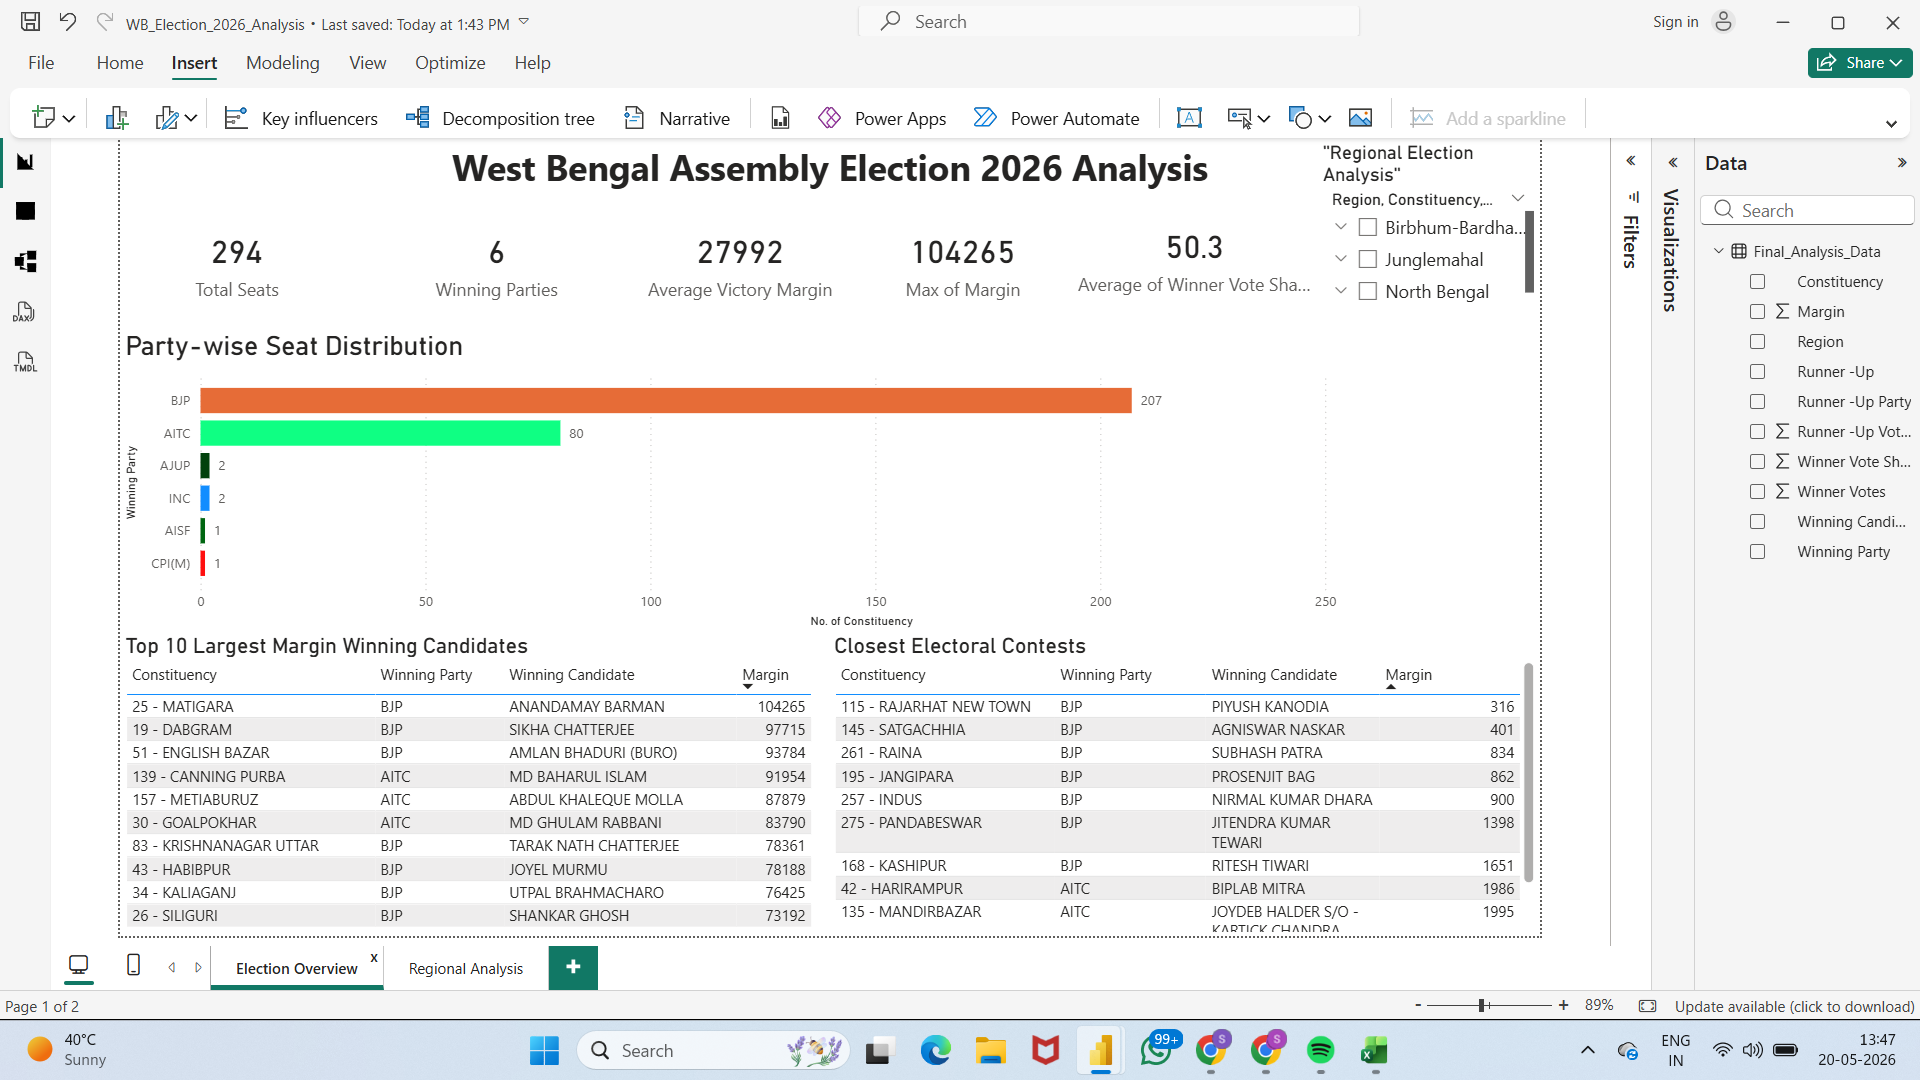

The dashboard page shown, as its layout file describes it:
{"tool":"powerbi","page":{"name":"Election Overview","canvas":[1280,720],"ordinal":0},"visuals":[{"type":"card","fields":{"Values":["Count(Final_Analysis_Data.Constituency)"]},"box":[0,54.9,211.3,112.5],"z":1},{"type":"card","fields":{"Values":["Count(Final_Analysis_Data.Winning Party)"]},"box":[211.3,54.9,258,112.5],"z":2},{"type":"card","fields":{"Values":["Avg(Final_Analysis_Data.Margin)"]},"box":[456.9,54.9,205.8,112.5],"z":3},{"type":"card","fields":{"Values":["Max(Final_Analysis_Data.Margin)"]},"box":[662.8,50.8,194.9,122.1],"z":4},{"type":"card","fields":{"Values":["Avg(Final_Analysis_Data.Winner Vote Share %)"]},"box":[857.6,50.8,222.3,112.5],"z":5},{"type":"barChart","title":"Party-wise Seat Distribution","fields":{"Category":["Final_Analysis_Data.Winning Party"],"Y":["Count(Final_Analysis_Data.Constituency)"]},"box":[0,173.3,1280.2,260.5],"z":6},{"type":"tableEx","title":"Top 10 Largest Margin Winning Candidates","fields":{"Values":["Final_Analysis_Data.Constituency","Final_Analysis_Data.Winning Party","Final_Analysis_Data.Winning Candidate","Final_Analysis_Data.Margin"]},"box":[0,446.5,639.5,273.3],"z":8},{"type":"tableEx","title":"Closest Electoral Contests","fields":{"Values":["Final_Analysis_Data.Constituency","Final_Analysis_Data.Winning Party","Final_Analysis_Data.Winning Candidate","Final_Analysis_Data.Margin"]},"box":[639.5,446.5,640.7,274.4],"z":9},{"type":"textbox","box":[0,0,1280.4,55.2],"z":10},{"type":"slicer","title":"\"Regional Election Analysis\"","fields":{"Values":["Final_Analysis_Data.Region","Final_Analysis_Data.Constituency","Final_Analysis_Data.Winning Party"]},"box":[1080.2,3.5,200,160.5],"z":11}]}

Visuals, with their boxes on the page's 1280x720 design canvas (x1, y1, x2, y2). These are canvas units, not pixel positions in the 1920x1080 screenshot, which may show the page scaled, cropped or inside an application window:
card - Count(Final_Analysis_Data.Constituency): left=0, top=55, right=211, bottom=167
card - Count(Final_Analysis_Data.Winning Party): left=211, top=55, right=469, bottom=167
card - Avg(Final_Analysis_Data.Margin): left=457, top=55, right=663, bottom=167
card - Max(Final_Analysis_Data.Margin): left=663, top=51, right=858, bottom=173
card - Avg(Final_Analysis_Data.Winner Vote Share %): left=858, top=51, right=1080, bottom=163
"Party-wise Seat Distribution" barChart: left=0, top=173, right=1280, bottom=434
"Top 10 Largest Margin Winning Candidates" tableEx: left=0, top=446, right=640, bottom=720
"Closest Electoral Contests" tableEx: left=640, top=446, right=1280, bottom=721
textbox: left=0, top=0, right=1280, bottom=55
""Regional Election Analysis"" slicer: left=1080, top=4, right=1280, bottom=164
